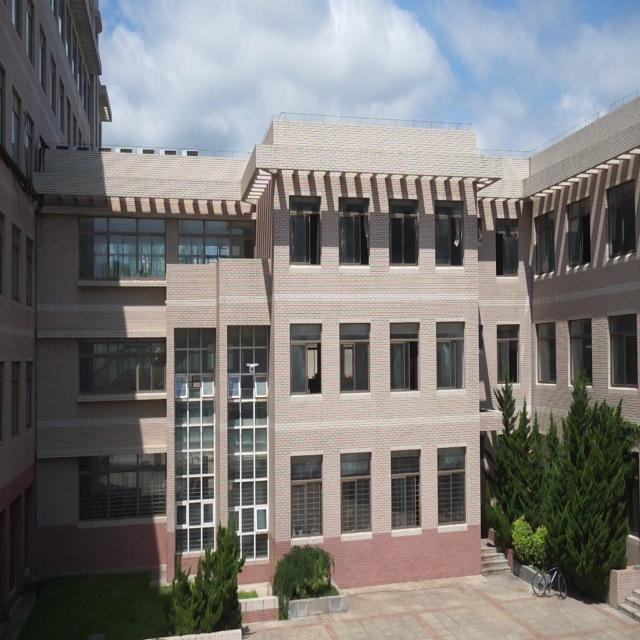drone: (245, 357, 260, 375)
